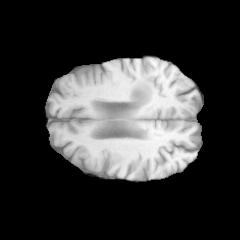glioma: (129, 82, 152, 104)
